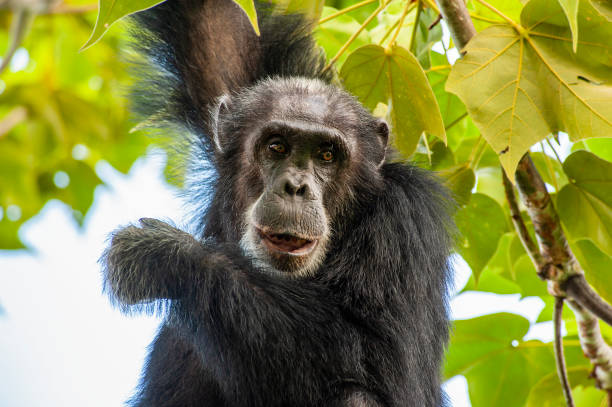chimpanzee: (196, 67, 415, 299)
